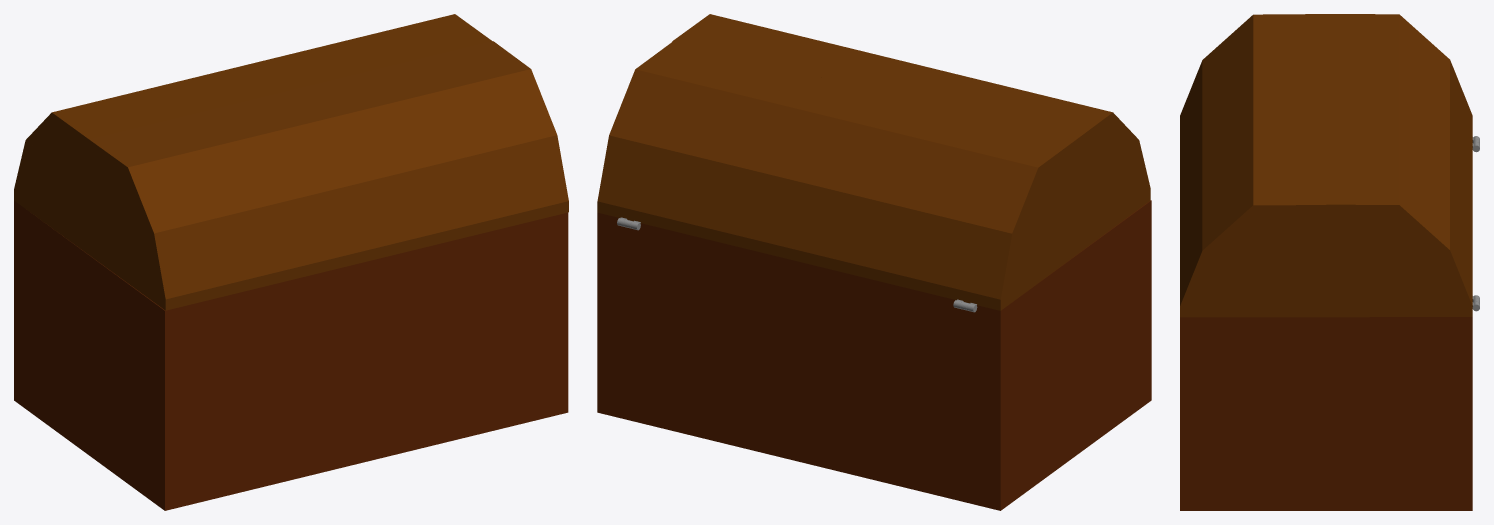
The model's file is chest.glb.
The picture shows the model from 3 angles, left to right: view 1: azimuth 30°, elevation 25°; view 2: azimuth 150°, elevation 25°; view 3: azimuth 270°, elevation 25°; orthographic projection. The views are drawn at different scales.
Parts seen in each view (by area): view 1: bottom, top; view 2: bottom, top; view 3: top, bottom.
Boxes of the visible parts, bbox=[...] form: bottom: bbox=[14, 200, 568, 510]; top: bbox=[14, 14, 568, 310]; bottom: bbox=[597, 200, 1151, 510]; top: bbox=[597, 14, 1150, 310]; top: bbox=[1180, 14, 1472, 317]; bottom: bbox=[1180, 317, 1472, 510].
Size of the model in its own units: 2 by 1.5 by 1.33.
